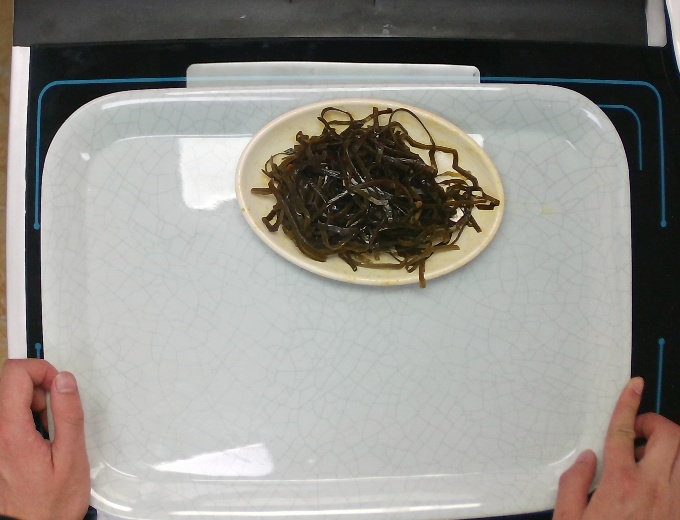JYsf-Tuo_Yuan_Wan: (237, 92, 507, 293)
